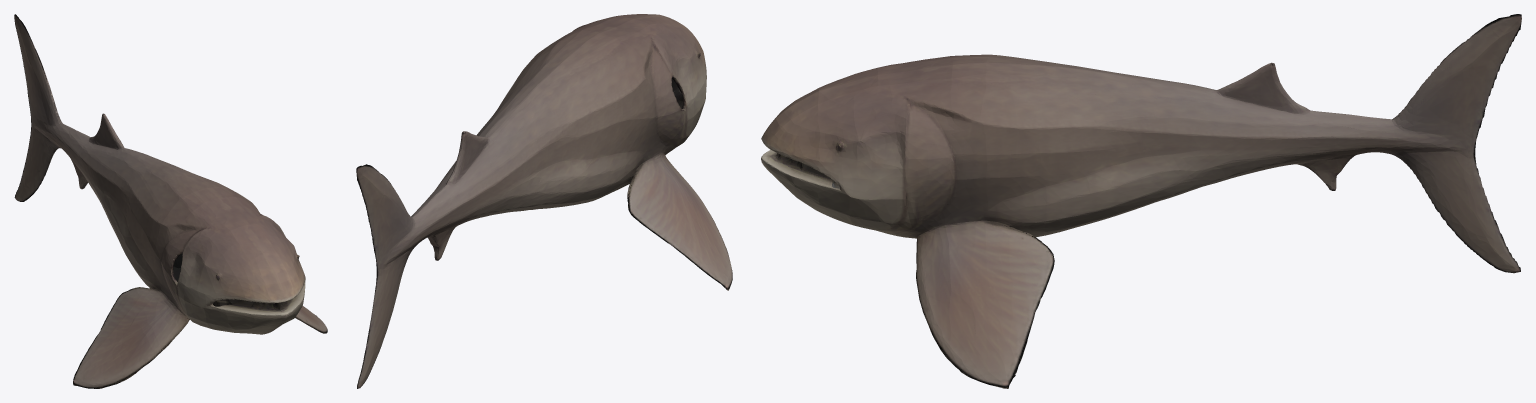
The picture shows the model from 3 angles, left to right: view 1: azimuth 30°, elevation 25°; view 2: azimuth 150°, elevation 25°; view 3: azimuth 270°, elevation 25°; orthographic projection. The views are drawn at different scales.
Parts seen in each view (by area): view 1: geometry_0; view 2: geometry_0; view 3: geometry_0.
Part boxes in pixels (x1,y1,x2,y2): geometry_0: (14, 14, 327, 388); geometry_0: (356, 14, 732, 388); geometry_0: (761, 14, 1521, 388).
Size of the model in its own units: 0.5324 by 0.4204 by 1.
Materials: 1 (1 with a texture image).
